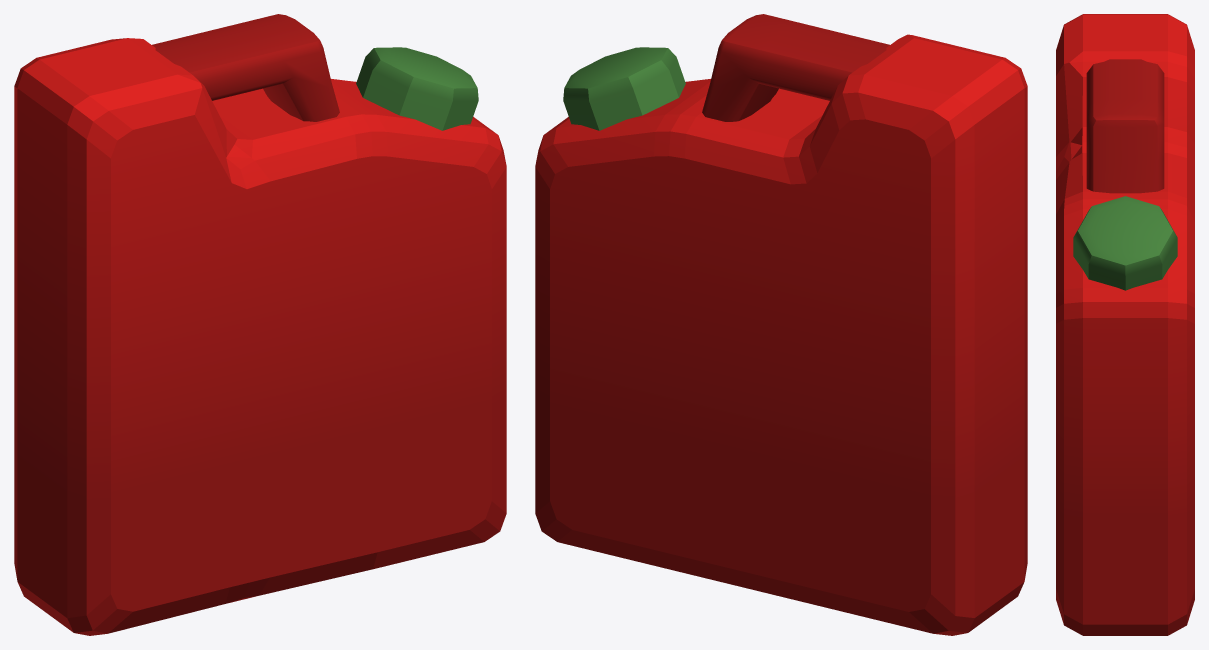
The model's file is Oilcan.fbx.
The picture shows the model from 3 angles, left to right: view 1: azimuth 30°, elevation 25°; view 2: azimuth 150°, elevation 25°; view 3: azimuth 270°, elevation 25°; orthographic projection. The views are drawn at different scales.
Parts seen in each view (by area): view 1: Oilcan; view 2: Oilcan; view 3: Oilcan.
Part boxes in pixels (x1,y1,x2,y2): Oilcan: (14, 14, 506, 635); Oilcan: (535, 14, 1027, 635); Oilcan: (1056, 14, 1194, 635).
Bounding box in the file's own units: 30.82 × 36.44 × 10.
